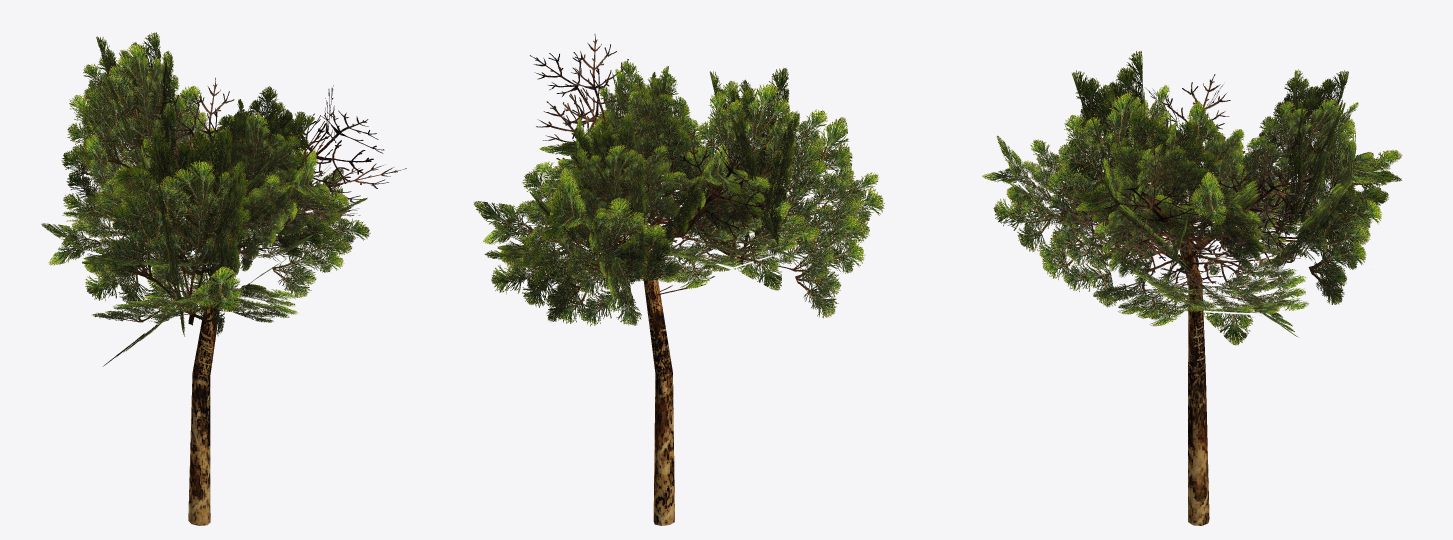
File: flora_tree_pine_maritime_short_v2.glb
3 views of the same model, side by side, from view 1: azimuth 30°, elevation 25°; view 2: azimuth 150°, elevation 25°; view 3: azimuth 270°, elevation 25° (orthographic).
Visible parts, largest first — view 1: flora_tree_pine_maritime_short_v2_part1, flora_tree_pine_maritime_short_v2_part0; view 2: flora_tree_pine_maritime_short_v2_part1, flora_tree_pine_maritime_short_v2_part0; view 3: flora_tree_pine_maritime_short_v2_part1, flora_tree_pine_maritime_short_v2_part0.
Part boxes in pixels (<box>): flora_tree_pine_maritime_short_v2_part1: <box>41,32,370,366</box>; flora_tree_pine_maritime_short_v2_part0: <box>113,77,406,525</box>; flora_tree_pine_maritime_short_v2_part1: <box>473,61,884,326</box>; flora_tree_pine_maritime_short_v2_part0: <box>525,34,766,525</box>; flora_tree_pine_maritime_short_v2_part1: <box>982,51,1402,345</box>; flora_tree_pine_maritime_short_v2_part0: <box>1039,74,1318,525</box>.
Bounding box in the file's own units: 14.65 × 17.36 × 16.57.
2 materials, 2 textured.
